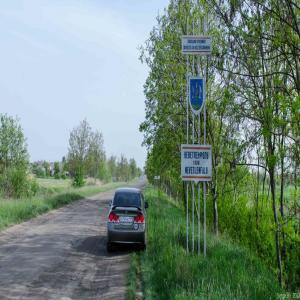Vehicle-registration-plate: (121, 217, 135, 223)
